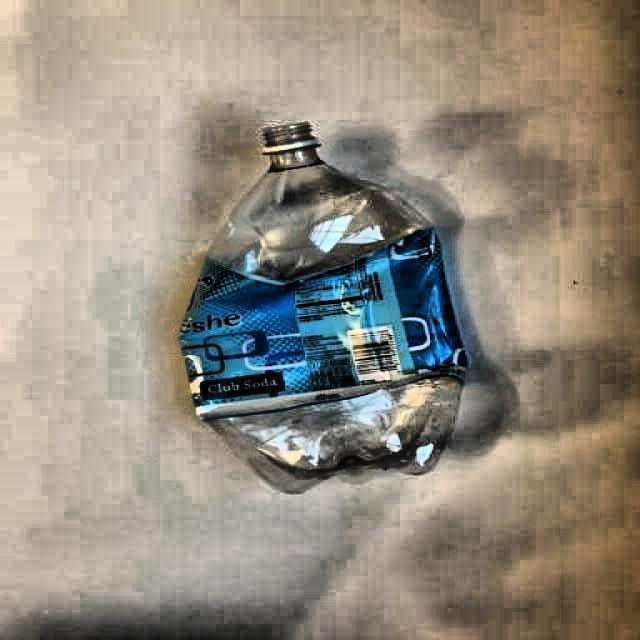plastic: (180, 124, 469, 489)
